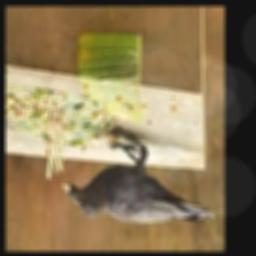Crow: (65, 137, 216, 223)
